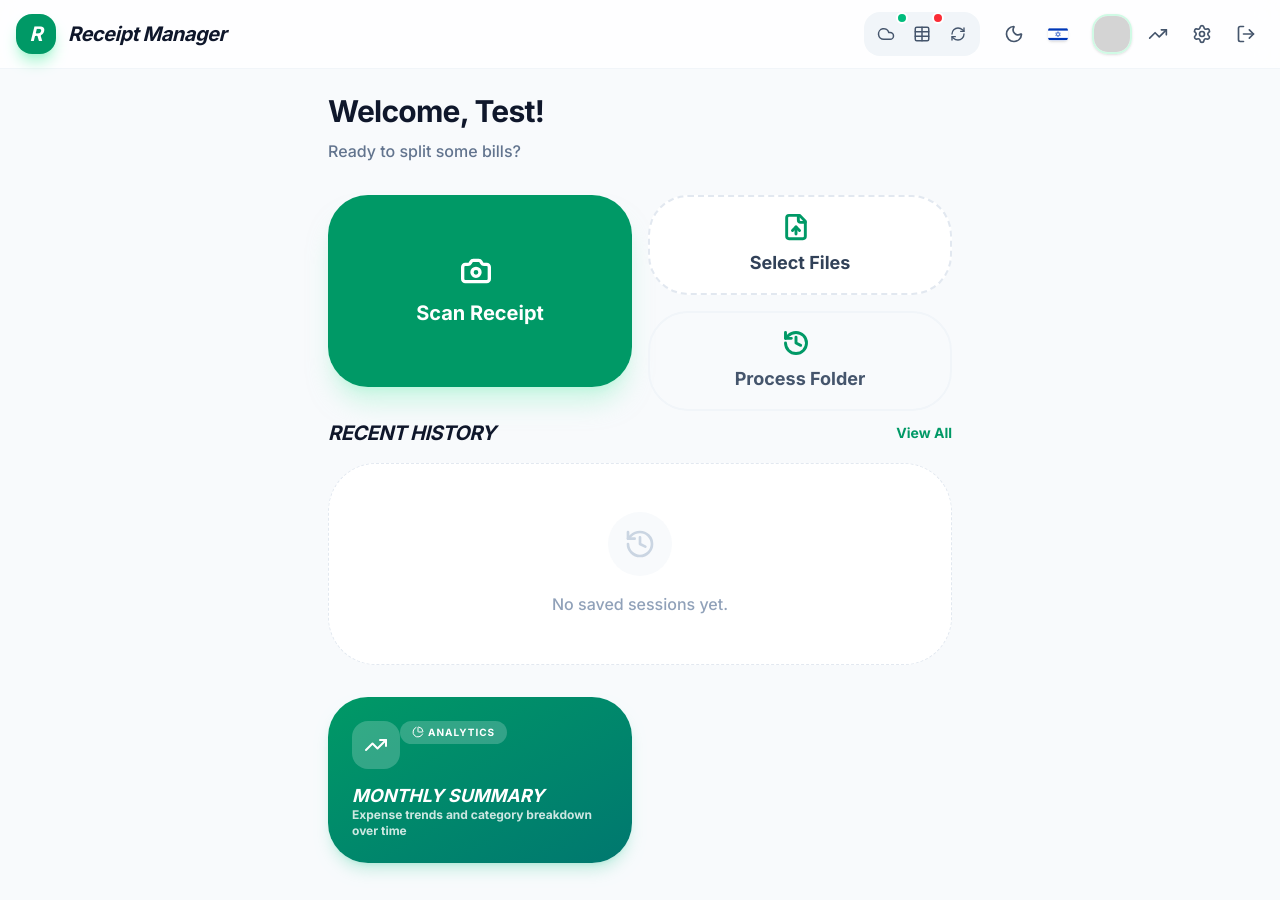
Test case: An expired Google access token › is cleared from storage when Google rejects it while connecting a spreadsheet
This screenshot has width=1280, height=900.
Click the button titled "Connect Google Sheets".
click(922, 34)  # box [904,16,940,52]
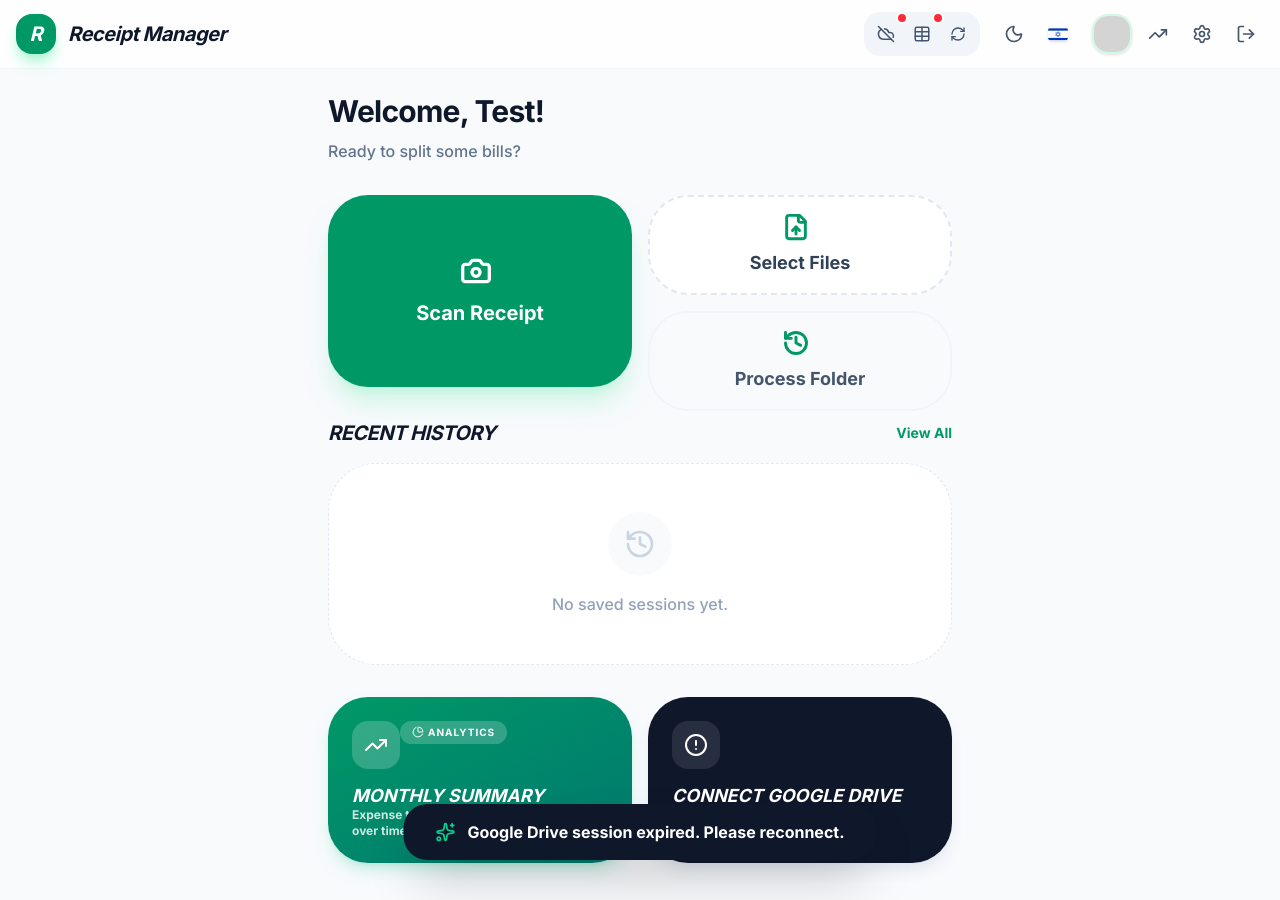
Check: the text "Google Drive session expired. Please reconnect." is shown, box [404,804,876,860]
Check: the button titled "Connect Google Drive" is shown, box [868,16,904,52]
